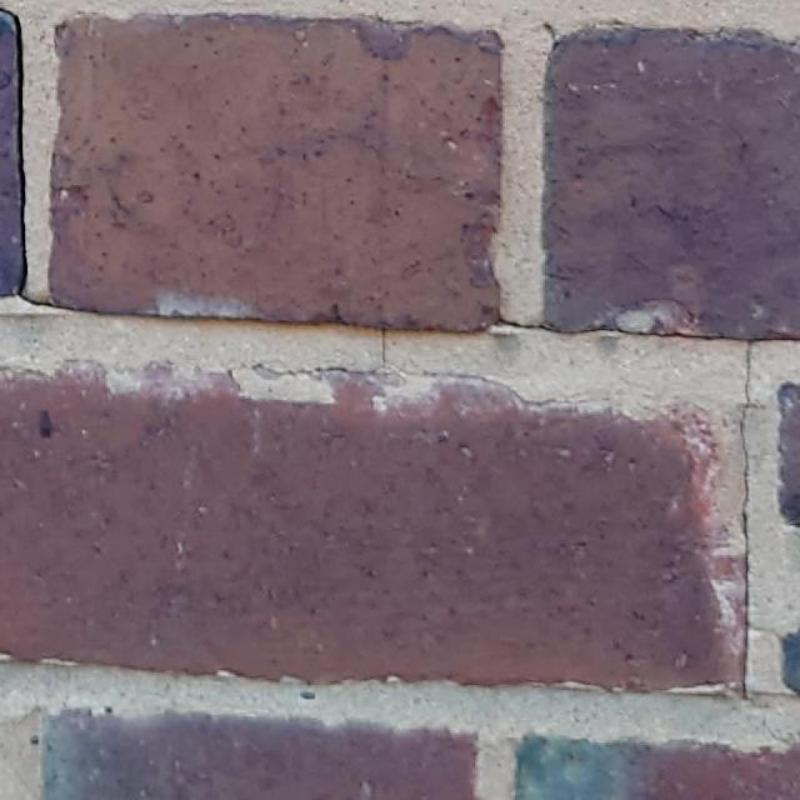crack: (1, 7, 55, 308), (737, 342, 766, 701), (499, 317, 562, 331), (381, 329, 386, 369)
